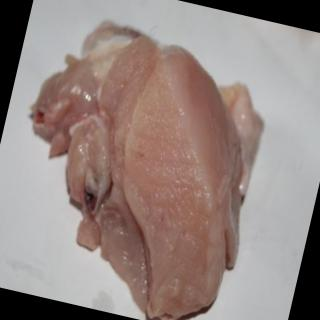Ayam: (1, 10, 278, 320)
